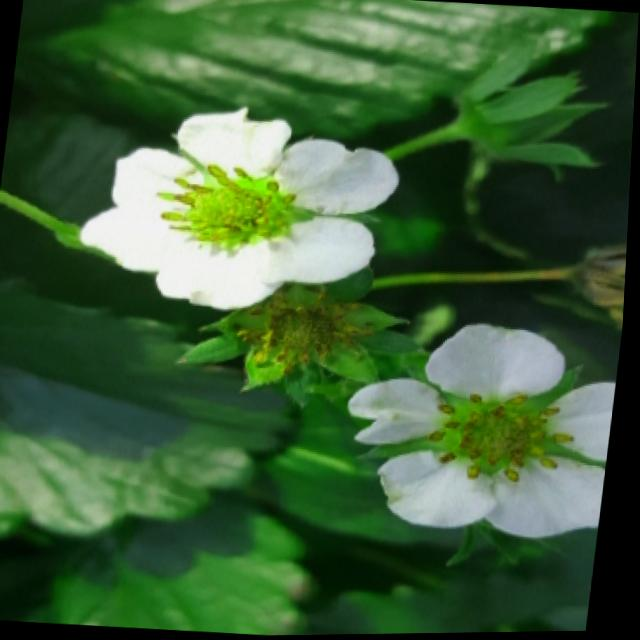Blossom Blight: (151, 155, 322, 250), (428, 390, 583, 491), (232, 288, 371, 380)
